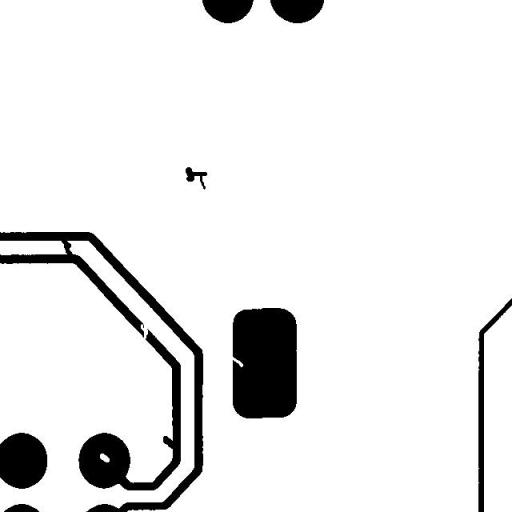copper: (178, 159, 214, 197)
mousebite: (224, 348, 250, 374)
open: (133, 316, 155, 349)
pin-hole: (92, 446, 117, 470)
short: (54, 230, 86, 269)
spur: (155, 428, 184, 458)
